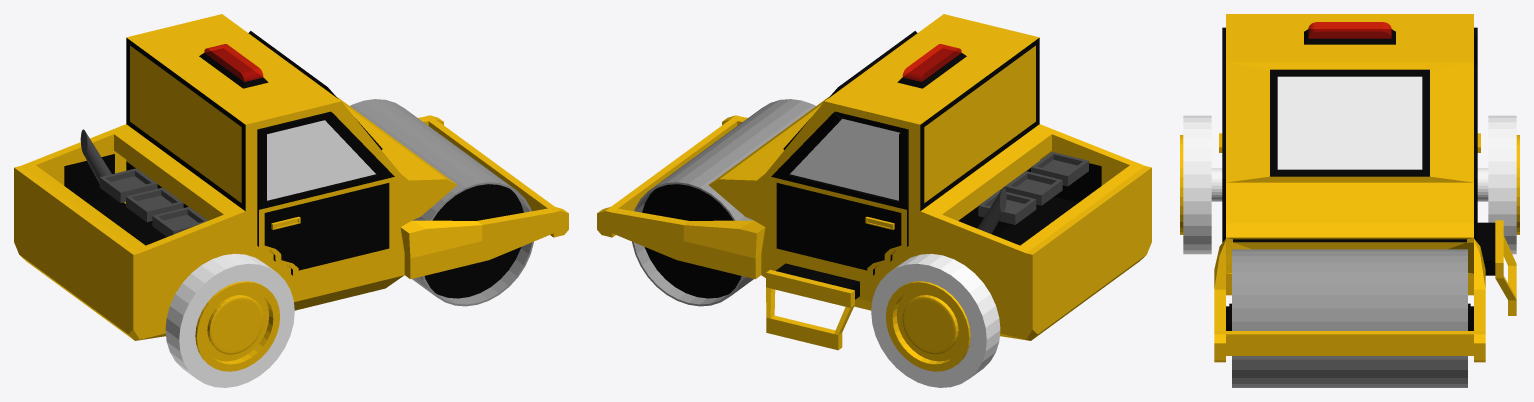
Rendered from ToySteamroller.glb.
The picture shows the model from 3 angles, left to right: view 1: azimuth 30°, elevation 25°; view 2: azimuth 150°, elevation 25°; view 3: azimuth 270°, elevation 25°; orthographic projection. The views are drawn at different scales.
Visible parts, largest first — view 1: Cabin, Back Wheels, Roller, Grates, Exhaust; view 2: Cabin, Back Wheels, Roller, Grates, Exhaust; view 3: Cabin, Roller, Back Wheels.
Part boxes in pixels (x1,y1,x2,y2): Cabin: (14,14,568,340); Back Wheels: (165,253,294,387); Roller: (350,99,533,306); Grates: (99,168,207,236); Exhaust: (80,129,111,183); Cabin: (597,14,1151,350); Back Wheels: (871,253,1000,387); Roller: (632,99,815,306); Grates: (978,152,1088,224); Exhaust: (977,187,1006,233); Cabin: (1214,14,1516,362); Roller: (1232,249,1467,387); Back Wheels: (1180,115,1519,254).
Bounding box in the file's own units: 1.13 × 0.63 × 0.7464.
